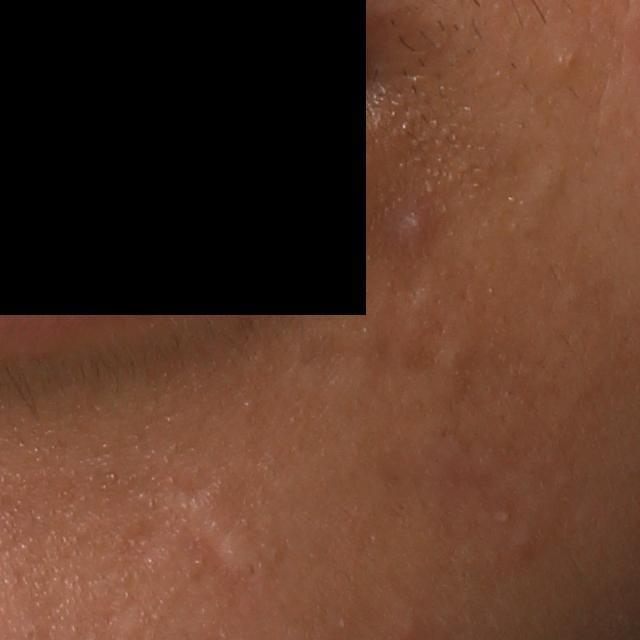comedo: (398, 617, 423, 640), (494, 508, 514, 528)
papule: (397, 208, 430, 238)
